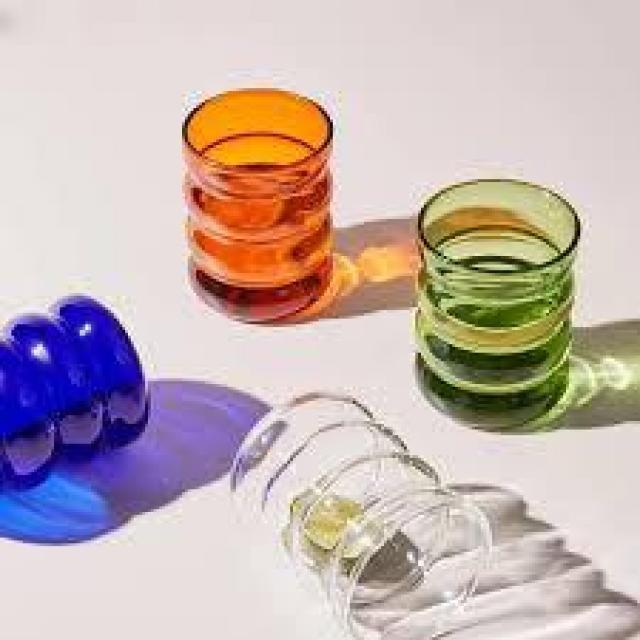glass: (219, 384, 501, 640), (406, 169, 584, 431), (172, 81, 343, 329)
